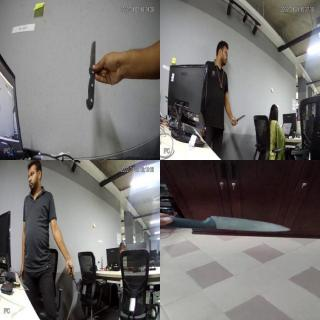knife: (197, 213, 298, 239), (85, 34, 97, 112), (71, 271, 81, 297), (232, 113, 246, 129)
